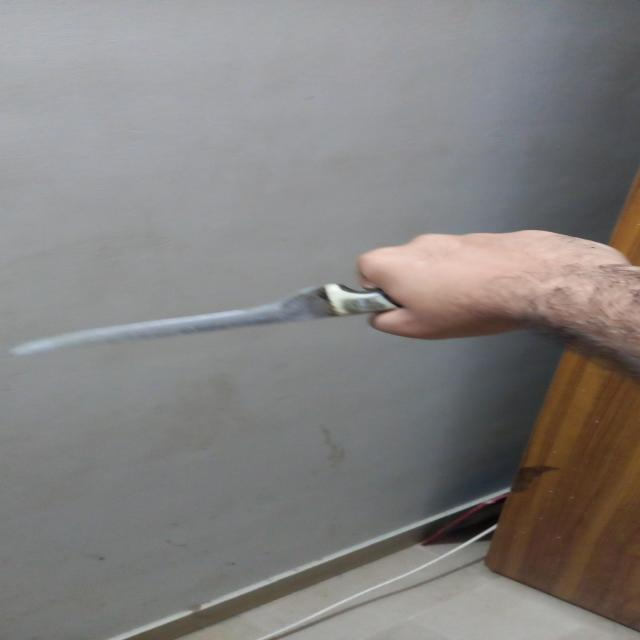Knife: (0, 281, 446, 365)
